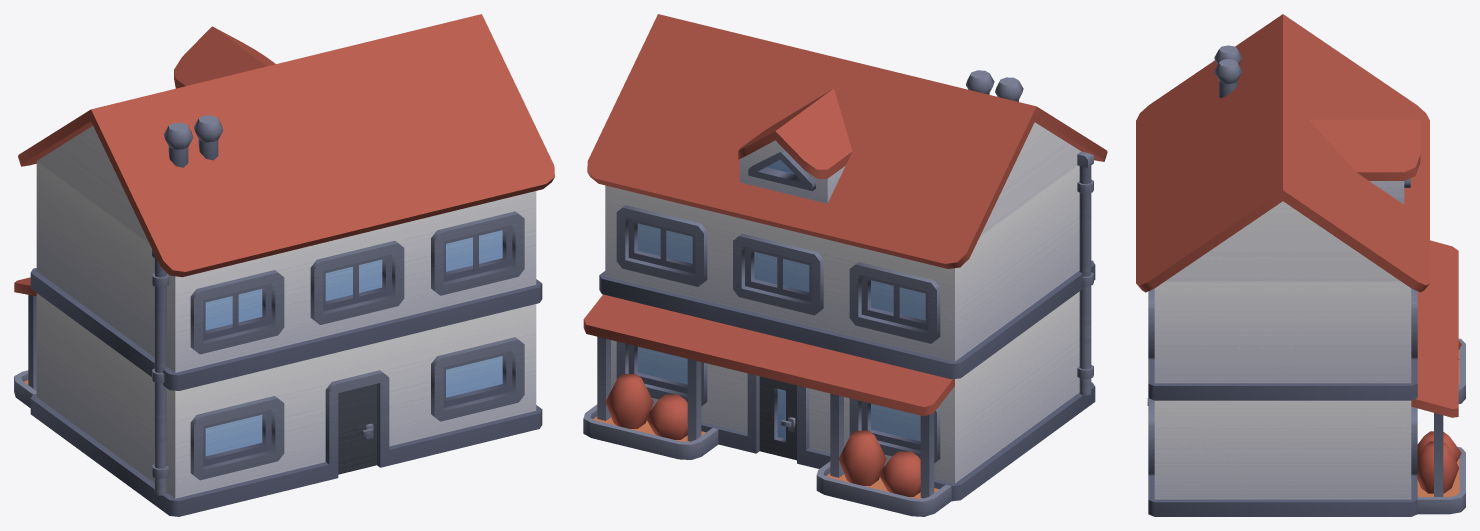
The model's file is house-e-red.glb.
3 renders of one model, left to right at view 1: azimuth 30°, elevation 25°; view 2: azimuth 150°, elevation 25°; view 3: azimuth 270°, elevation 25°, orthographic. The views are drawn at different scales.
Parts seen in each view (by area): view 1: building-type-e; view 2: building-type-e; view 3: building-type-e.
Part boxes in pixels (x1,y1,x2,y2): building-type-e: (14, 14, 554, 516); building-type-e: (583, 14, 1107, 516); building-type-e: (1136, 14, 1465, 516).
Size of the model in its own units: 1.3 by 1.14 by 1.03.
Materials: 2 (1 with a texture image).
